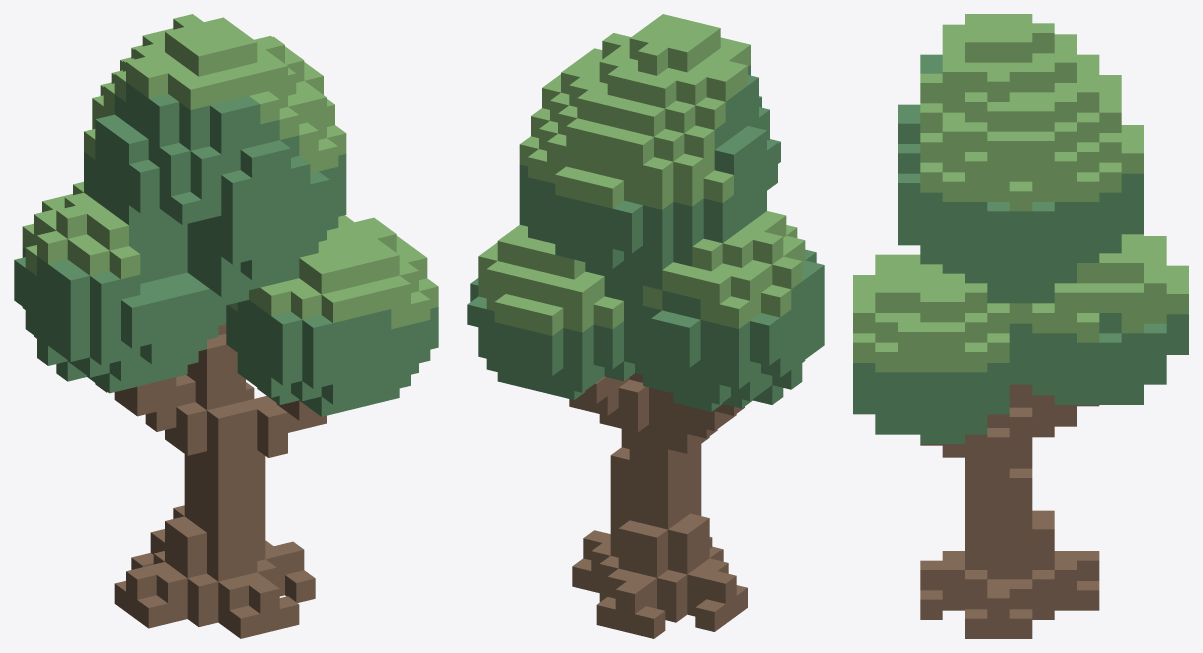
3 renders of one model, left to right at view 1: azimuth 30°, elevation 25°; view 2: azimuth 150°, elevation 25°; view 3: azimuth 270°, elevation 25°, orthographic.
Parts seen in each view (by area): view 1: tree_oak_var_0_standard_oak_D, tree_oak_var_0_standard_oak_L, tree_oak_var_0_standard_oak_W; view 2: tree_oak_var_0_standard_oak_L, tree_oak_var_0_standard_oak_D, tree_oak_var_0_standard_oak_W; view 3: tree_oak_var_0_standard_oak_L, tree_oak_var_0_standard_oak_D, tree_oak_var_0_standard_oak_W.
Part boxes in pixels (box(x1,y1,x2,y2)): tree_oak_var_0_standard_oak_D: box(14, 82, 438, 416); tree_oak_var_0_standard_oak_L: box(22, 14, 438, 329); tree_oak_var_0_standard_oak_W: box(95, 324, 326, 638); tree_oak_var_0_standard_oak_L: box(478, 14, 805, 335); tree_oak_var_0_standard_oak_D: box(467, 65, 824, 411); tree_oak_var_0_standard_oak_W: box(569, 373, 747, 638); tree_oak_var_0_standard_oak_L: box(853, 14, 1188, 372); tree_oak_var_0_standard_oak_D: box(853, 54, 1188, 443); tree_oak_var_0_standard_oak_W: box(920, 384, 1099, 638).
Size of the model in its own units: 2.4 by 4.2 by 2.25.
